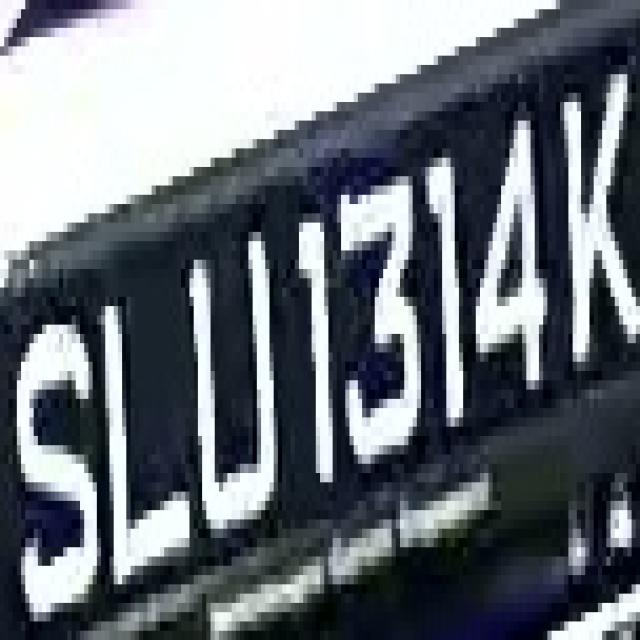1: (286, 194, 337, 528), (417, 139, 467, 455)
3: (328, 158, 438, 454)
4: (463, 74, 552, 408)
K: (564, 65, 628, 399)
L: (101, 260, 185, 584)
S: (4, 278, 110, 603)
U: (172, 241, 290, 547)
